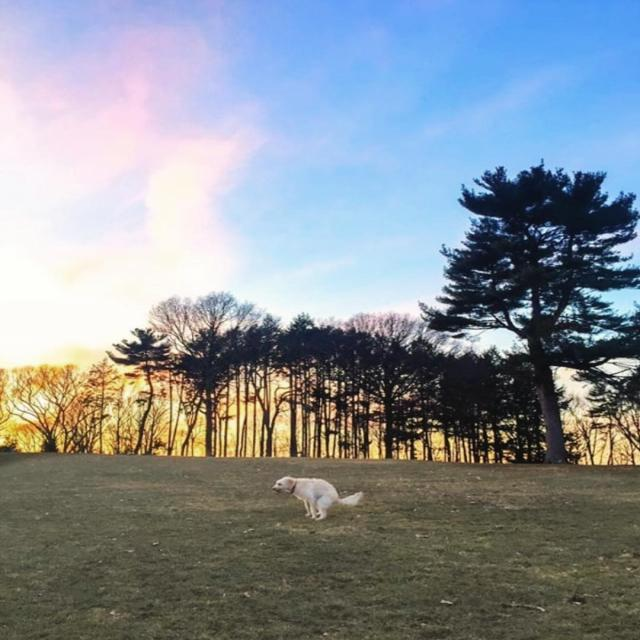squatting: (269, 472, 370, 524)
